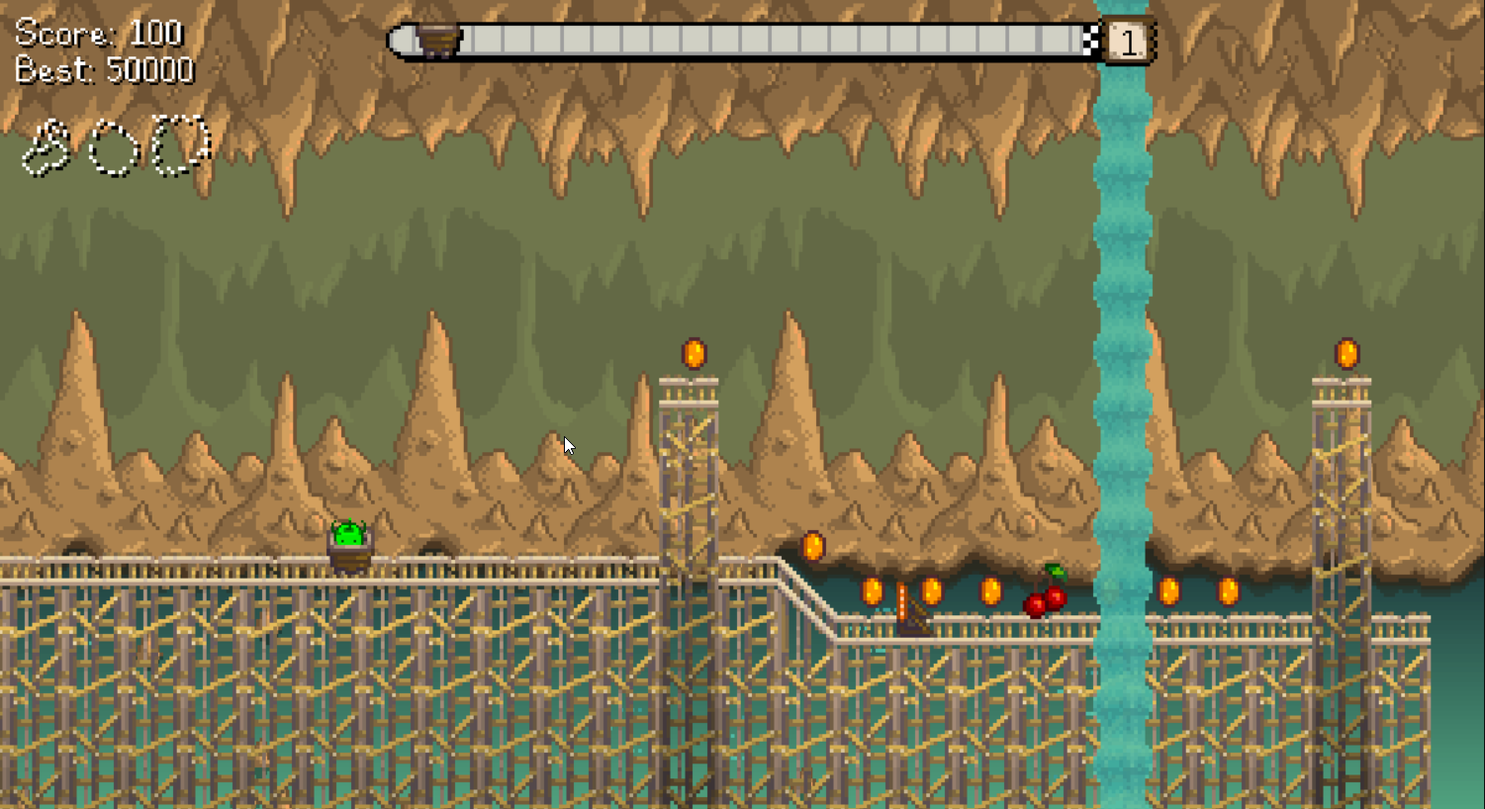barricade: (896, 584, 931, 637)
cherry: (1015, 560, 1075, 619)
coins: (799, 530, 826, 562), (1335, 337, 1358, 370), (684, 337, 706, 370), (920, 577, 944, 606), (1157, 577, 1180, 606), (1218, 577, 1241, 605), (980, 576, 1001, 606), (861, 579, 883, 606)
minecart: (327, 519, 373, 573)
tracks: (709, 546, 1323, 658), (1, 553, 664, 588), (1364, 603, 1438, 652), (1308, 368, 1376, 412), (657, 371, 722, 410)
